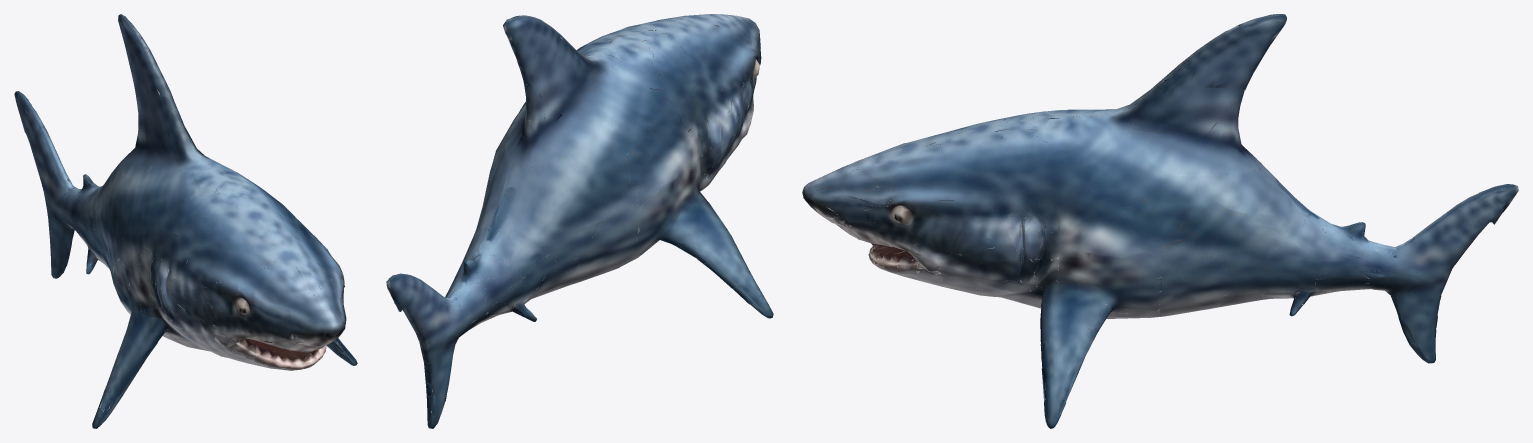
The model's file is shark.glb.
3 views of the same model, side by side, from view 1: azimuth 30°, elevation 25°; view 2: azimuth 150°, elevation 25°; view 3: azimuth 270°, elevation 25° (orthographic). The views are drawn at different scales.
Parts seen in each view (by area): view 1: MeshyFit; view 2: MeshyFit; view 3: MeshyFit.
Boxes of the visible parts, <box> form: MeshyFit: <box>14,14,357,428</box>; MeshyFit: <box>386,14,773,428</box>; MeshyFit: <box>802,14,1518,428</box>.
Size of the model in its own units: 0.8845 by 1 by 1.86.
Materials: 1 (1 with a texture image).
